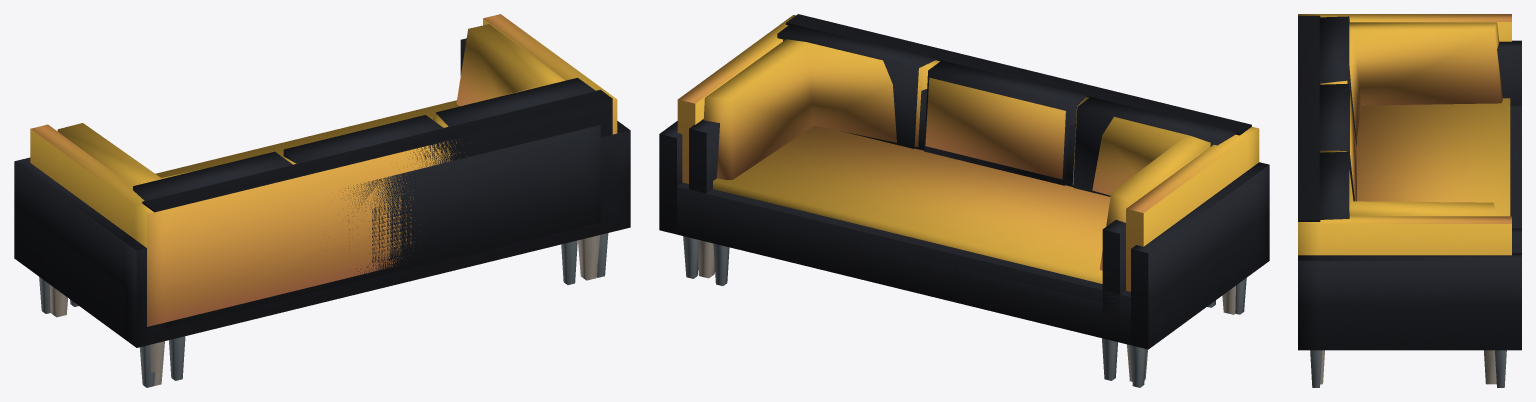
The model's file is Couches.FBX.
3 views of the same model, side by side, from view 1: azimuth 30°, elevation 25°; view 2: azimuth 150°, elevation 25°; view 3: azimuth 270°, elevation 25° (orthographic). The views are drawn at different scales.
Visible parts, largest first — view 1: Orange Couch, Couch Black, Couch Black Low; view 2: Orange Couch, Couch Black, Couch Black Low; view 3: Orange Couch, Couch Black, Couch Black Low.
Boxes of the visible parts, x1=… form: Orange Couch: x1=30, y1=14, x2=617, y2=385; Couch Black: x1=14, y1=77, x2=630, y2=387; Couch Black Low: x1=70, y1=38, x2=600, y2=380; Orange Couch: x1=677, y1=15, x2=1259, y2=381; Couch Black: x1=659, y1=14, x2=1269, y2=387; Couch Black Low: x1=689, y1=89, x2=1215, y2=380; Orange Couch: x1=1298, y1=14, x2=1511, y2=384; Couch Black: x1=1298, y1=15, x2=1521, y2=387; Couch Black Low: x1=1497, y1=41, x2=1521, y2=252.
Size of the model in its own units: 82.63 by 29.65 by 35.43.
